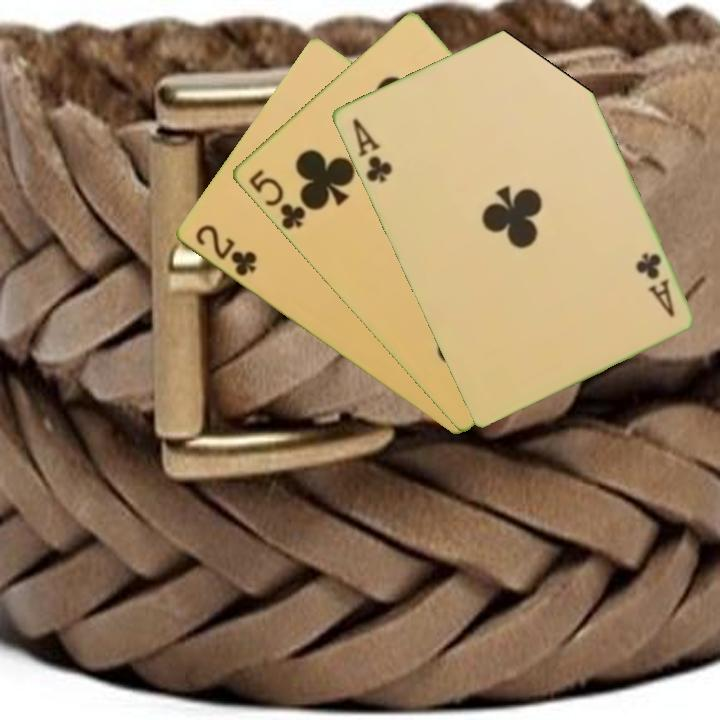2c: (191, 221, 259, 280)
5c: (244, 165, 309, 233)
Ac: (348, 114, 395, 186), (631, 248, 677, 320)
